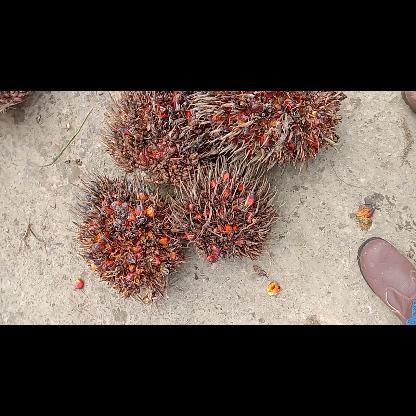Terlalu masak: (64, 170, 192, 306), (164, 150, 284, 266), (186, 90, 348, 174), (96, 90, 210, 192)
